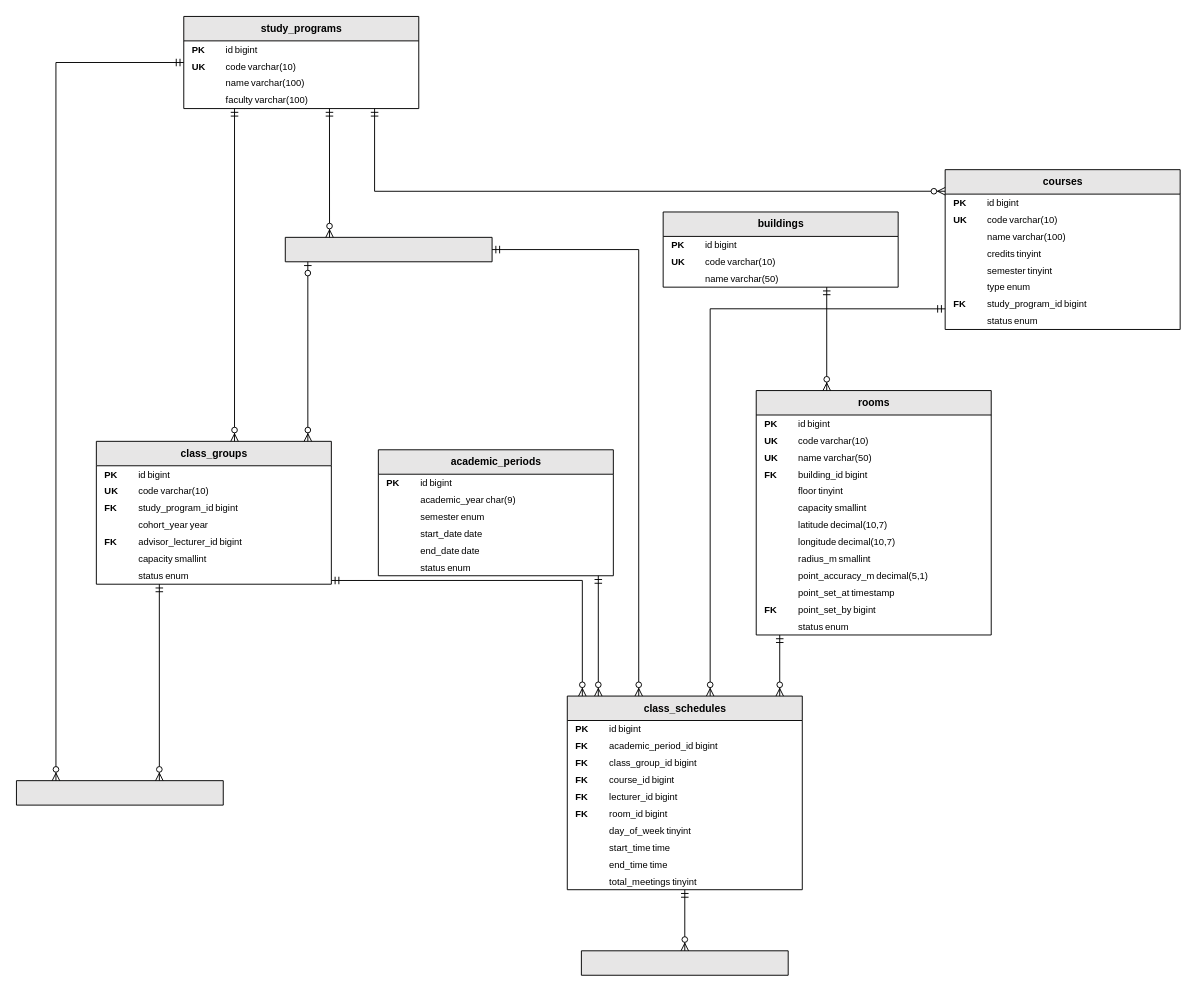
Some shapes in this 1197 by 992 pixel diagram are drawn without their labels. The centre of each missing label's shape, as x and y in pixels:
attendance_sessions (bagian lain): [684,962]
lecturers (bagian lain): [388,249]
students (bagian lain): [119,792]
